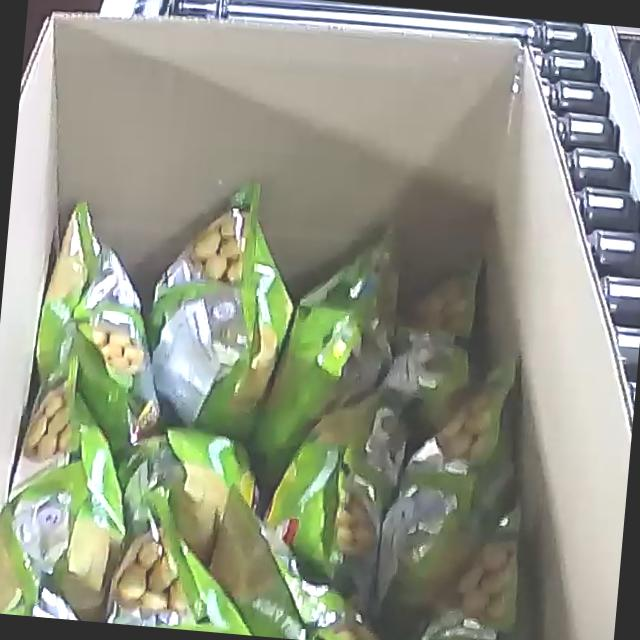yogurt: (0, 156, 561, 640)
